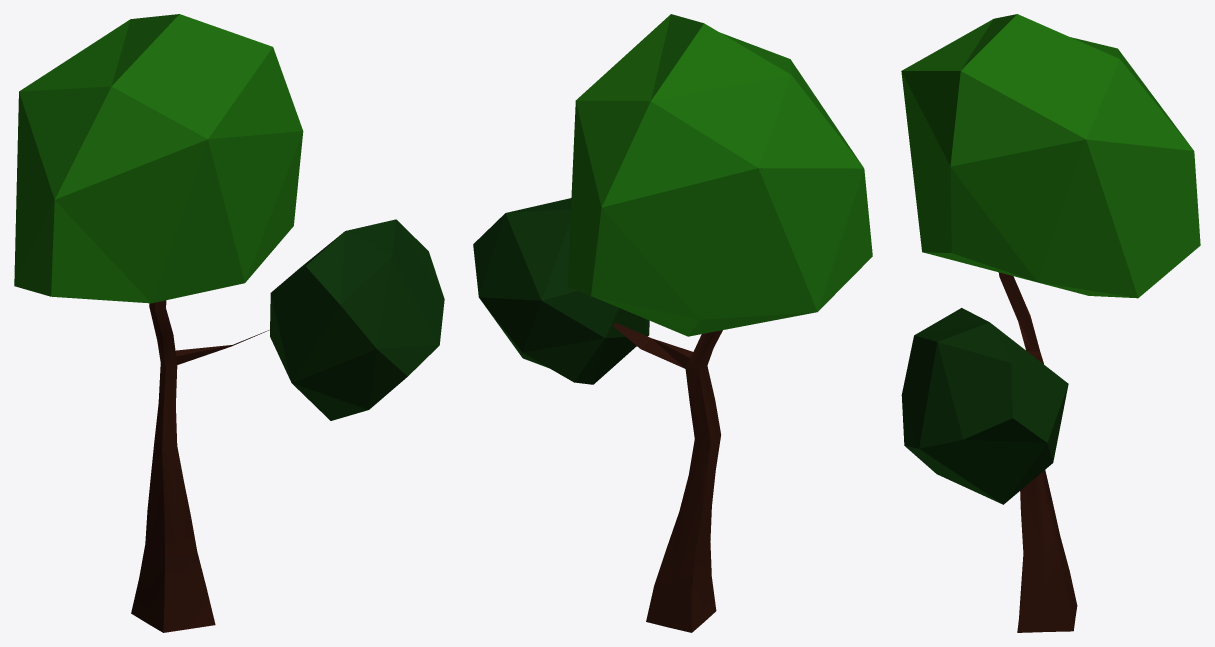
File: ArbolLOD2.FBX
3 renders of one model, left to right at view 1: azimuth 30°, elevation 25°; view 2: azimuth 150°, elevation 25°; view 3: azimuth 270°, elevation 25°, orthographic. The views are drawn at different scales.
Visible parts, largest first — view 1: GeoSphere003, GeoSphere004, Box006; view 2: GeoSphere003, GeoSphere004, Box006; view 3: GeoSphere003, GeoSphere004, Box006.
Part boxes in pixels (box(x1,y1,x2,y2)): GeoSphere003: box(14, 14, 303, 303); GeoSphere004: box(270, 219, 444, 420); Box006: box(131, 300, 270, 632); GeoSphere003: box(567, 14, 872, 336); GeoSphere004: box(473, 198, 649, 384); Box006: box(613, 322, 722, 632); GeoSphere003: box(901, 14, 1200, 298); GeoSphere004: box(901, 308, 1068, 504); Box006: box(998, 272, 1077, 632).
Size of the model in its own units: 55.96 by 82.81 by 37.31.
